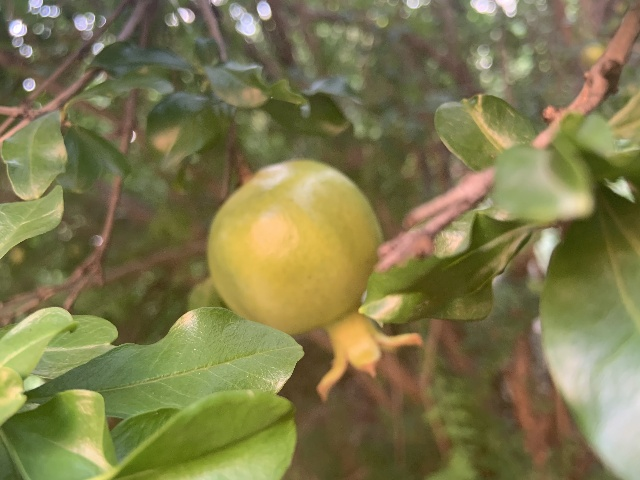mid-growth: (205, 159, 423, 405)
